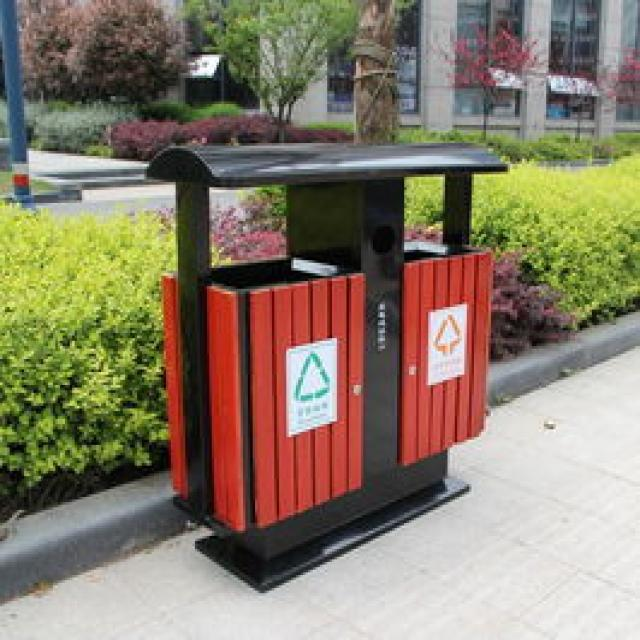garbage_bin: (142, 138, 508, 590)
